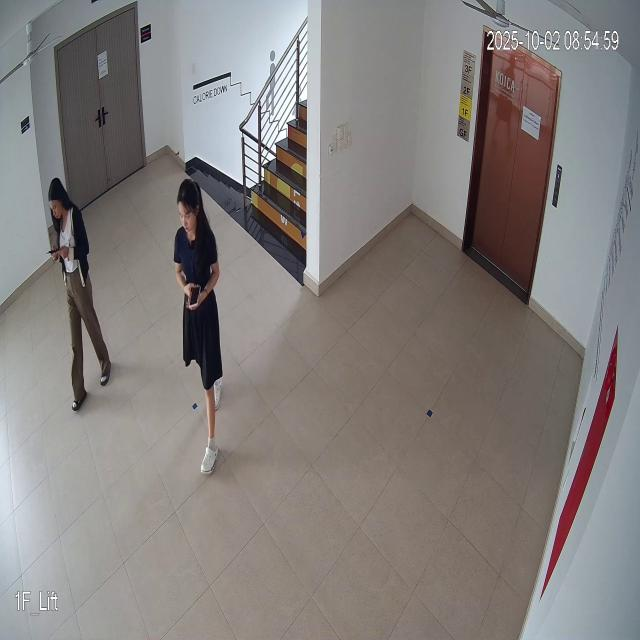face: (172, 171, 202, 240)
